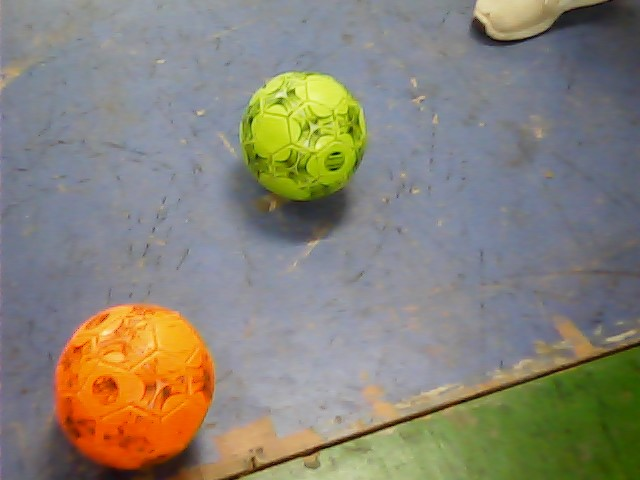Green_ball: (239, 66, 366, 201)
Orange_ball: (51, 302, 243, 471)
